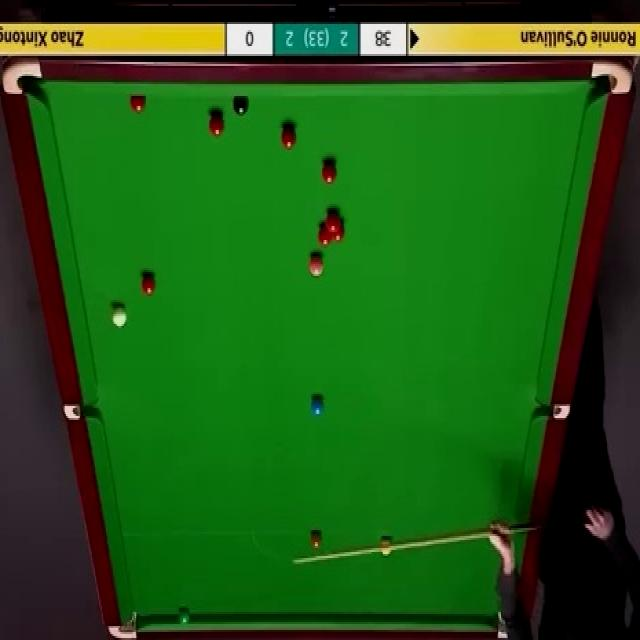pocket: (2, 57, 45, 97), (591, 60, 634, 97), (108, 609, 138, 640), (537, 404, 571, 422), (65, 403, 99, 420)
